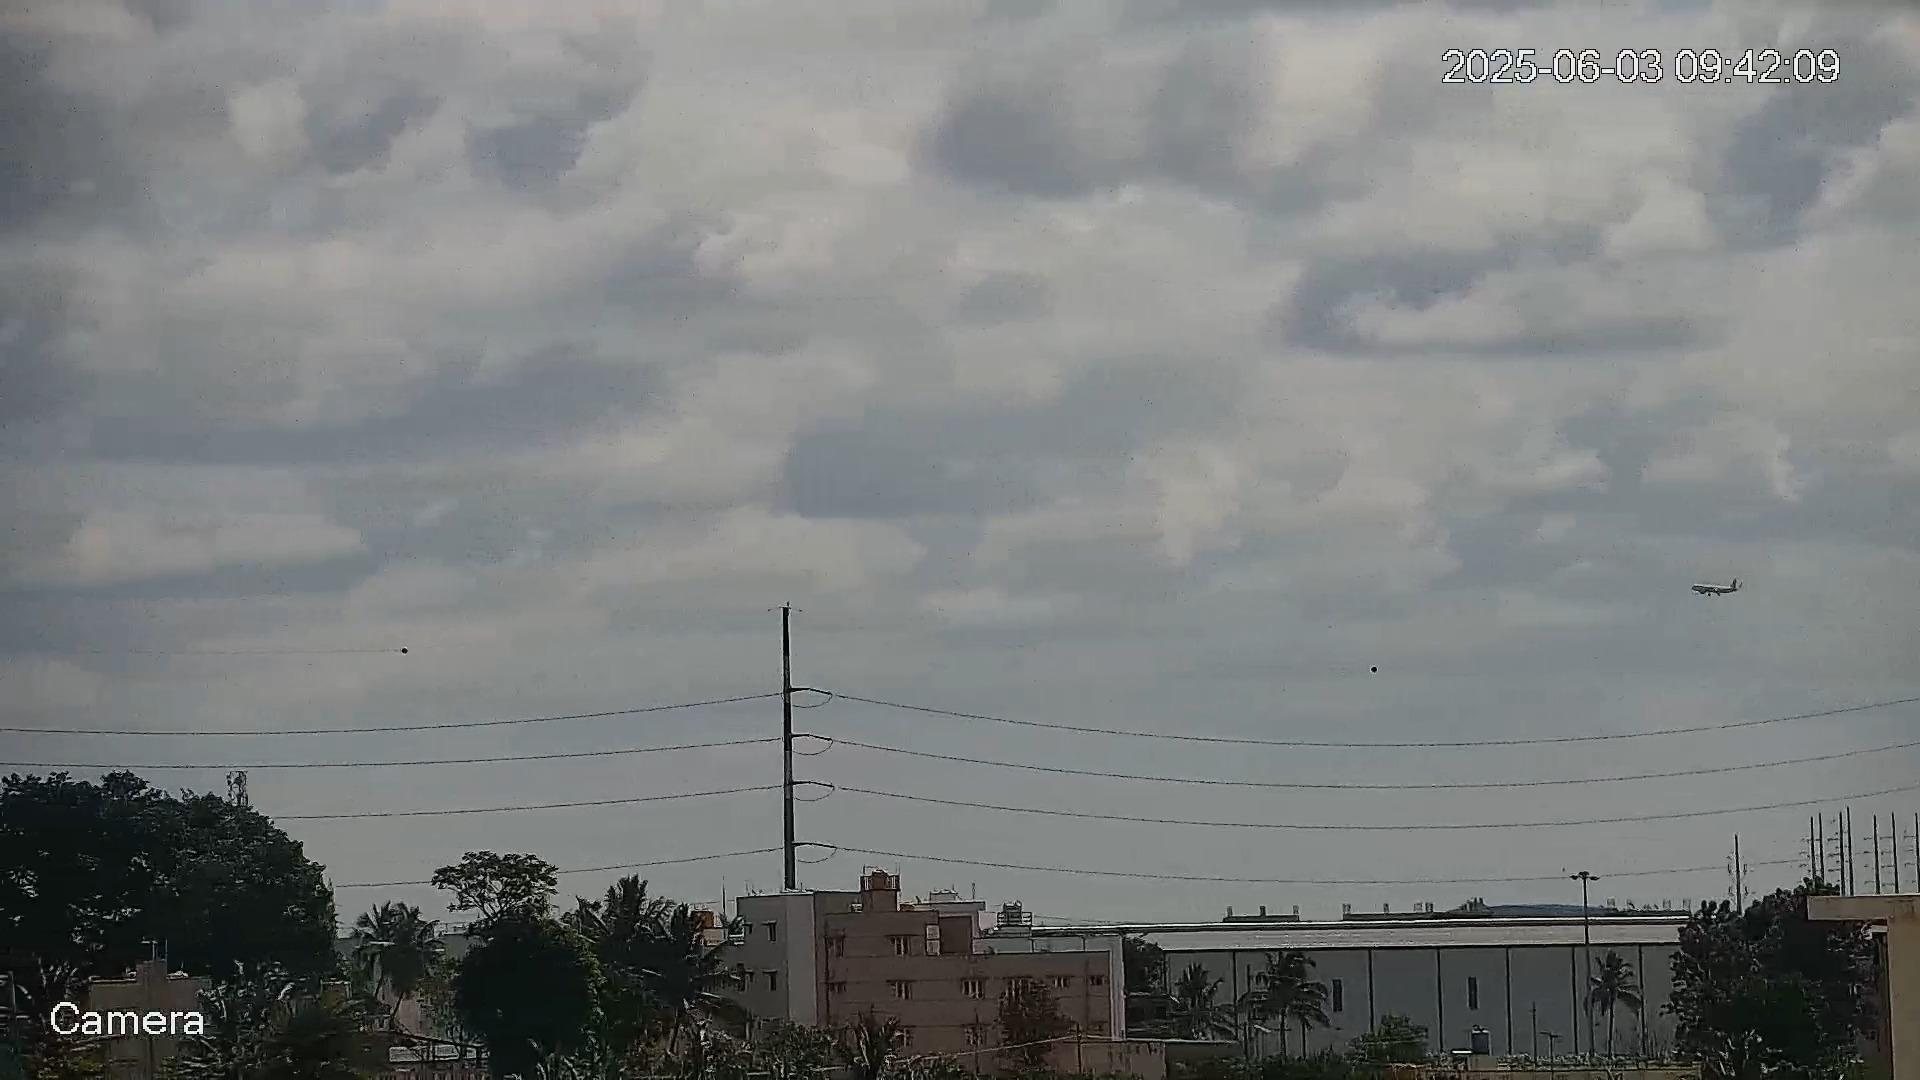Aircraft: (1688, 578, 1742, 597)
